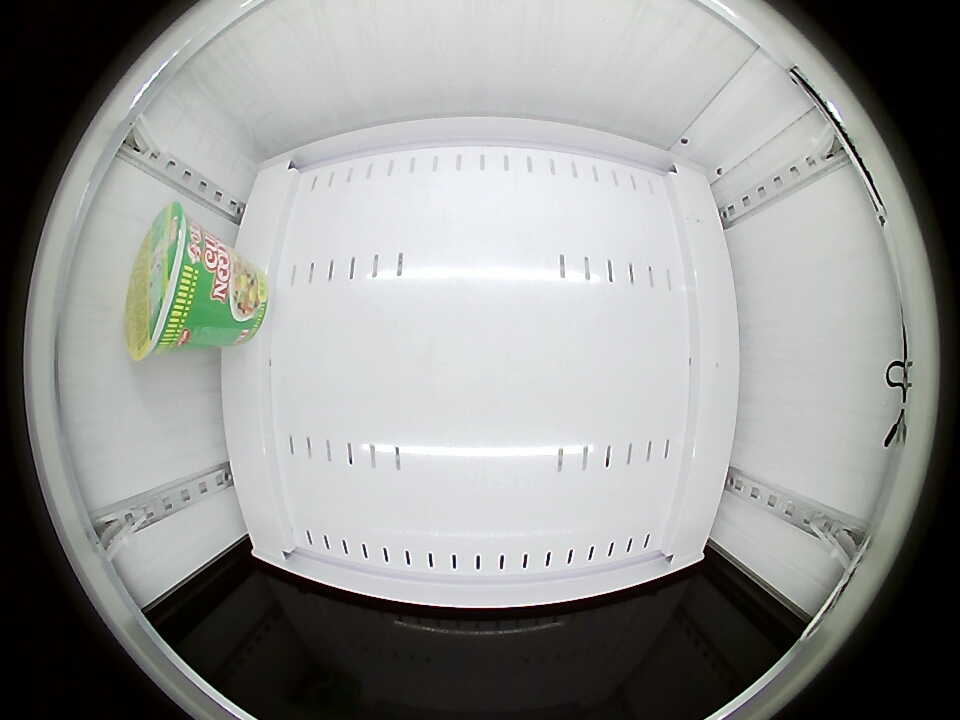heweidao2: (124, 203, 213, 360)
